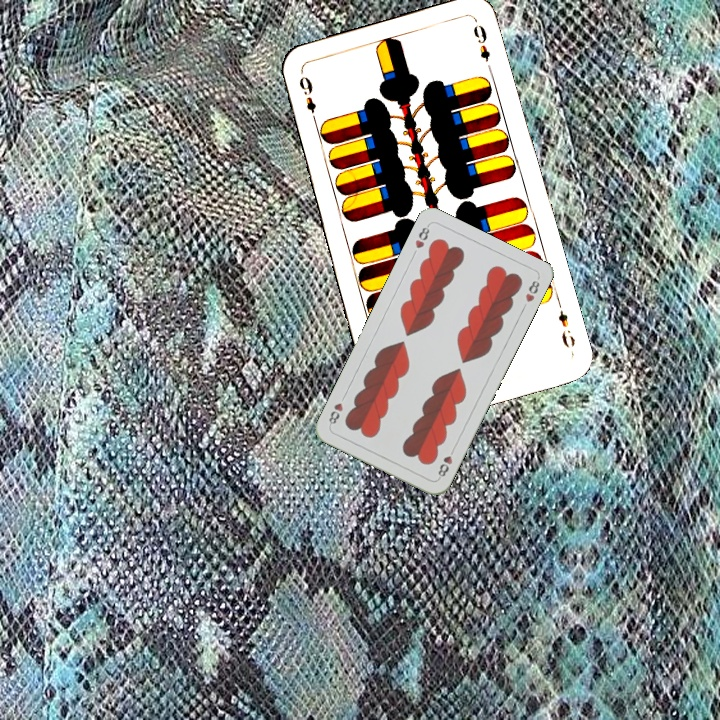E9: (295, 72, 320, 126), (553, 297, 578, 350)
H8: (434, 443, 458, 481), (411, 221, 432, 251)
